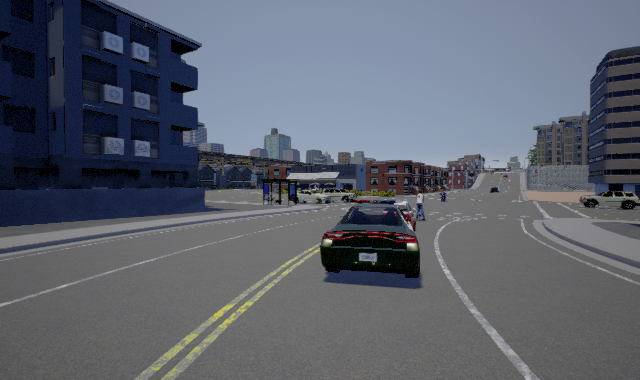bike: (412, 189, 429, 222)
vehicle: (319, 201, 420, 278), (579, 191, 640, 210), (292, 186, 329, 203), (436, 190, 450, 202), (488, 186, 500, 194)
